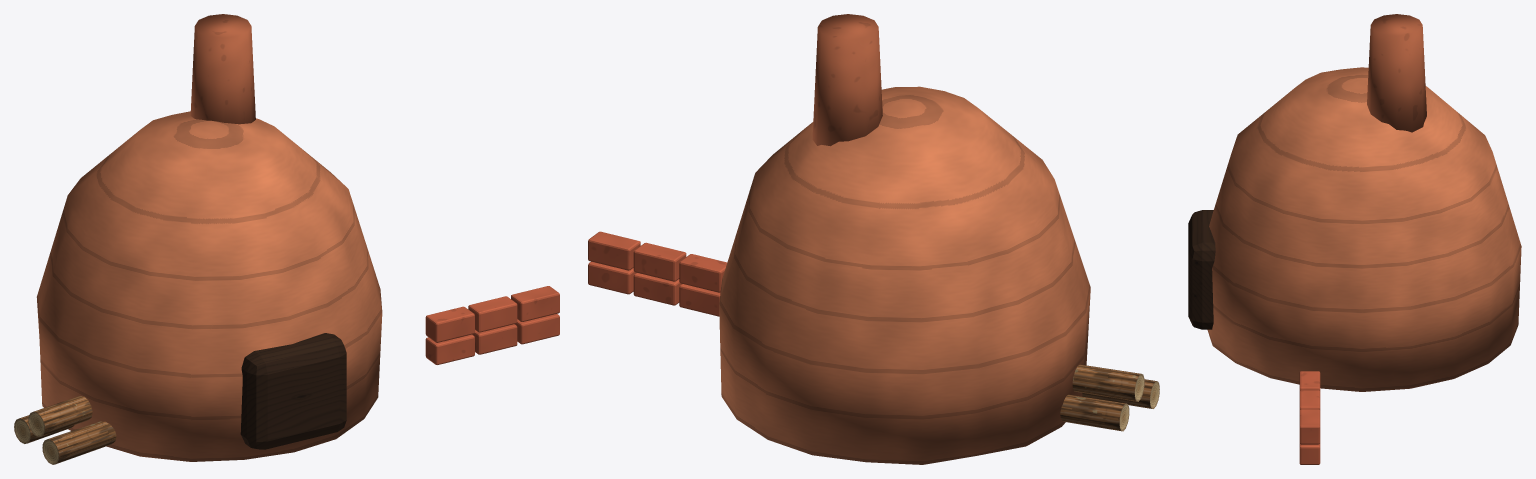
Rendered from kiln.glb.
The picture shows the model from 3 angles, left to right: view 1: azimuth 30°, elevation 25°; view 2: azimuth 150°, elevation 25°; view 3: azimuth 270°, elevation 25°; orthographic projection. The views are drawn at different scales.
Visible parts, largest first — view 1: Kiln; view 2: Kiln; view 3: Kiln.
Boxes of the visible parts, x1,y1,x2,y2 form: Kiln: [14, 14, 559, 464]; Kiln: [588, 14, 1159, 464]; Kiln: [1188, 14, 1521, 464].
Bounding box in the file's own units: 3.15 × 2 × 1.92.
Materials: 1 (1 with a texture image).
